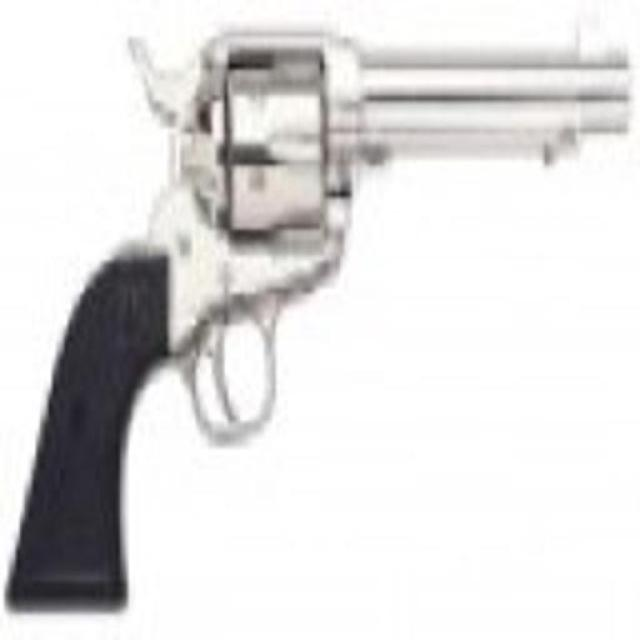pistol: (7, 15, 631, 607)
